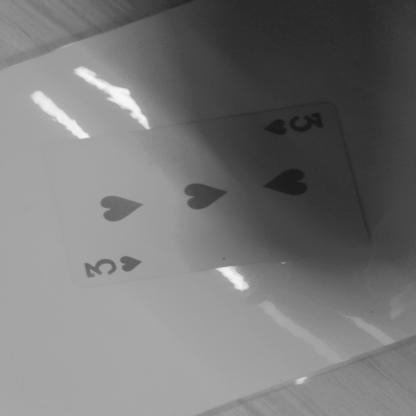3S: (236, 102, 356, 160), (62, 247, 188, 291)
